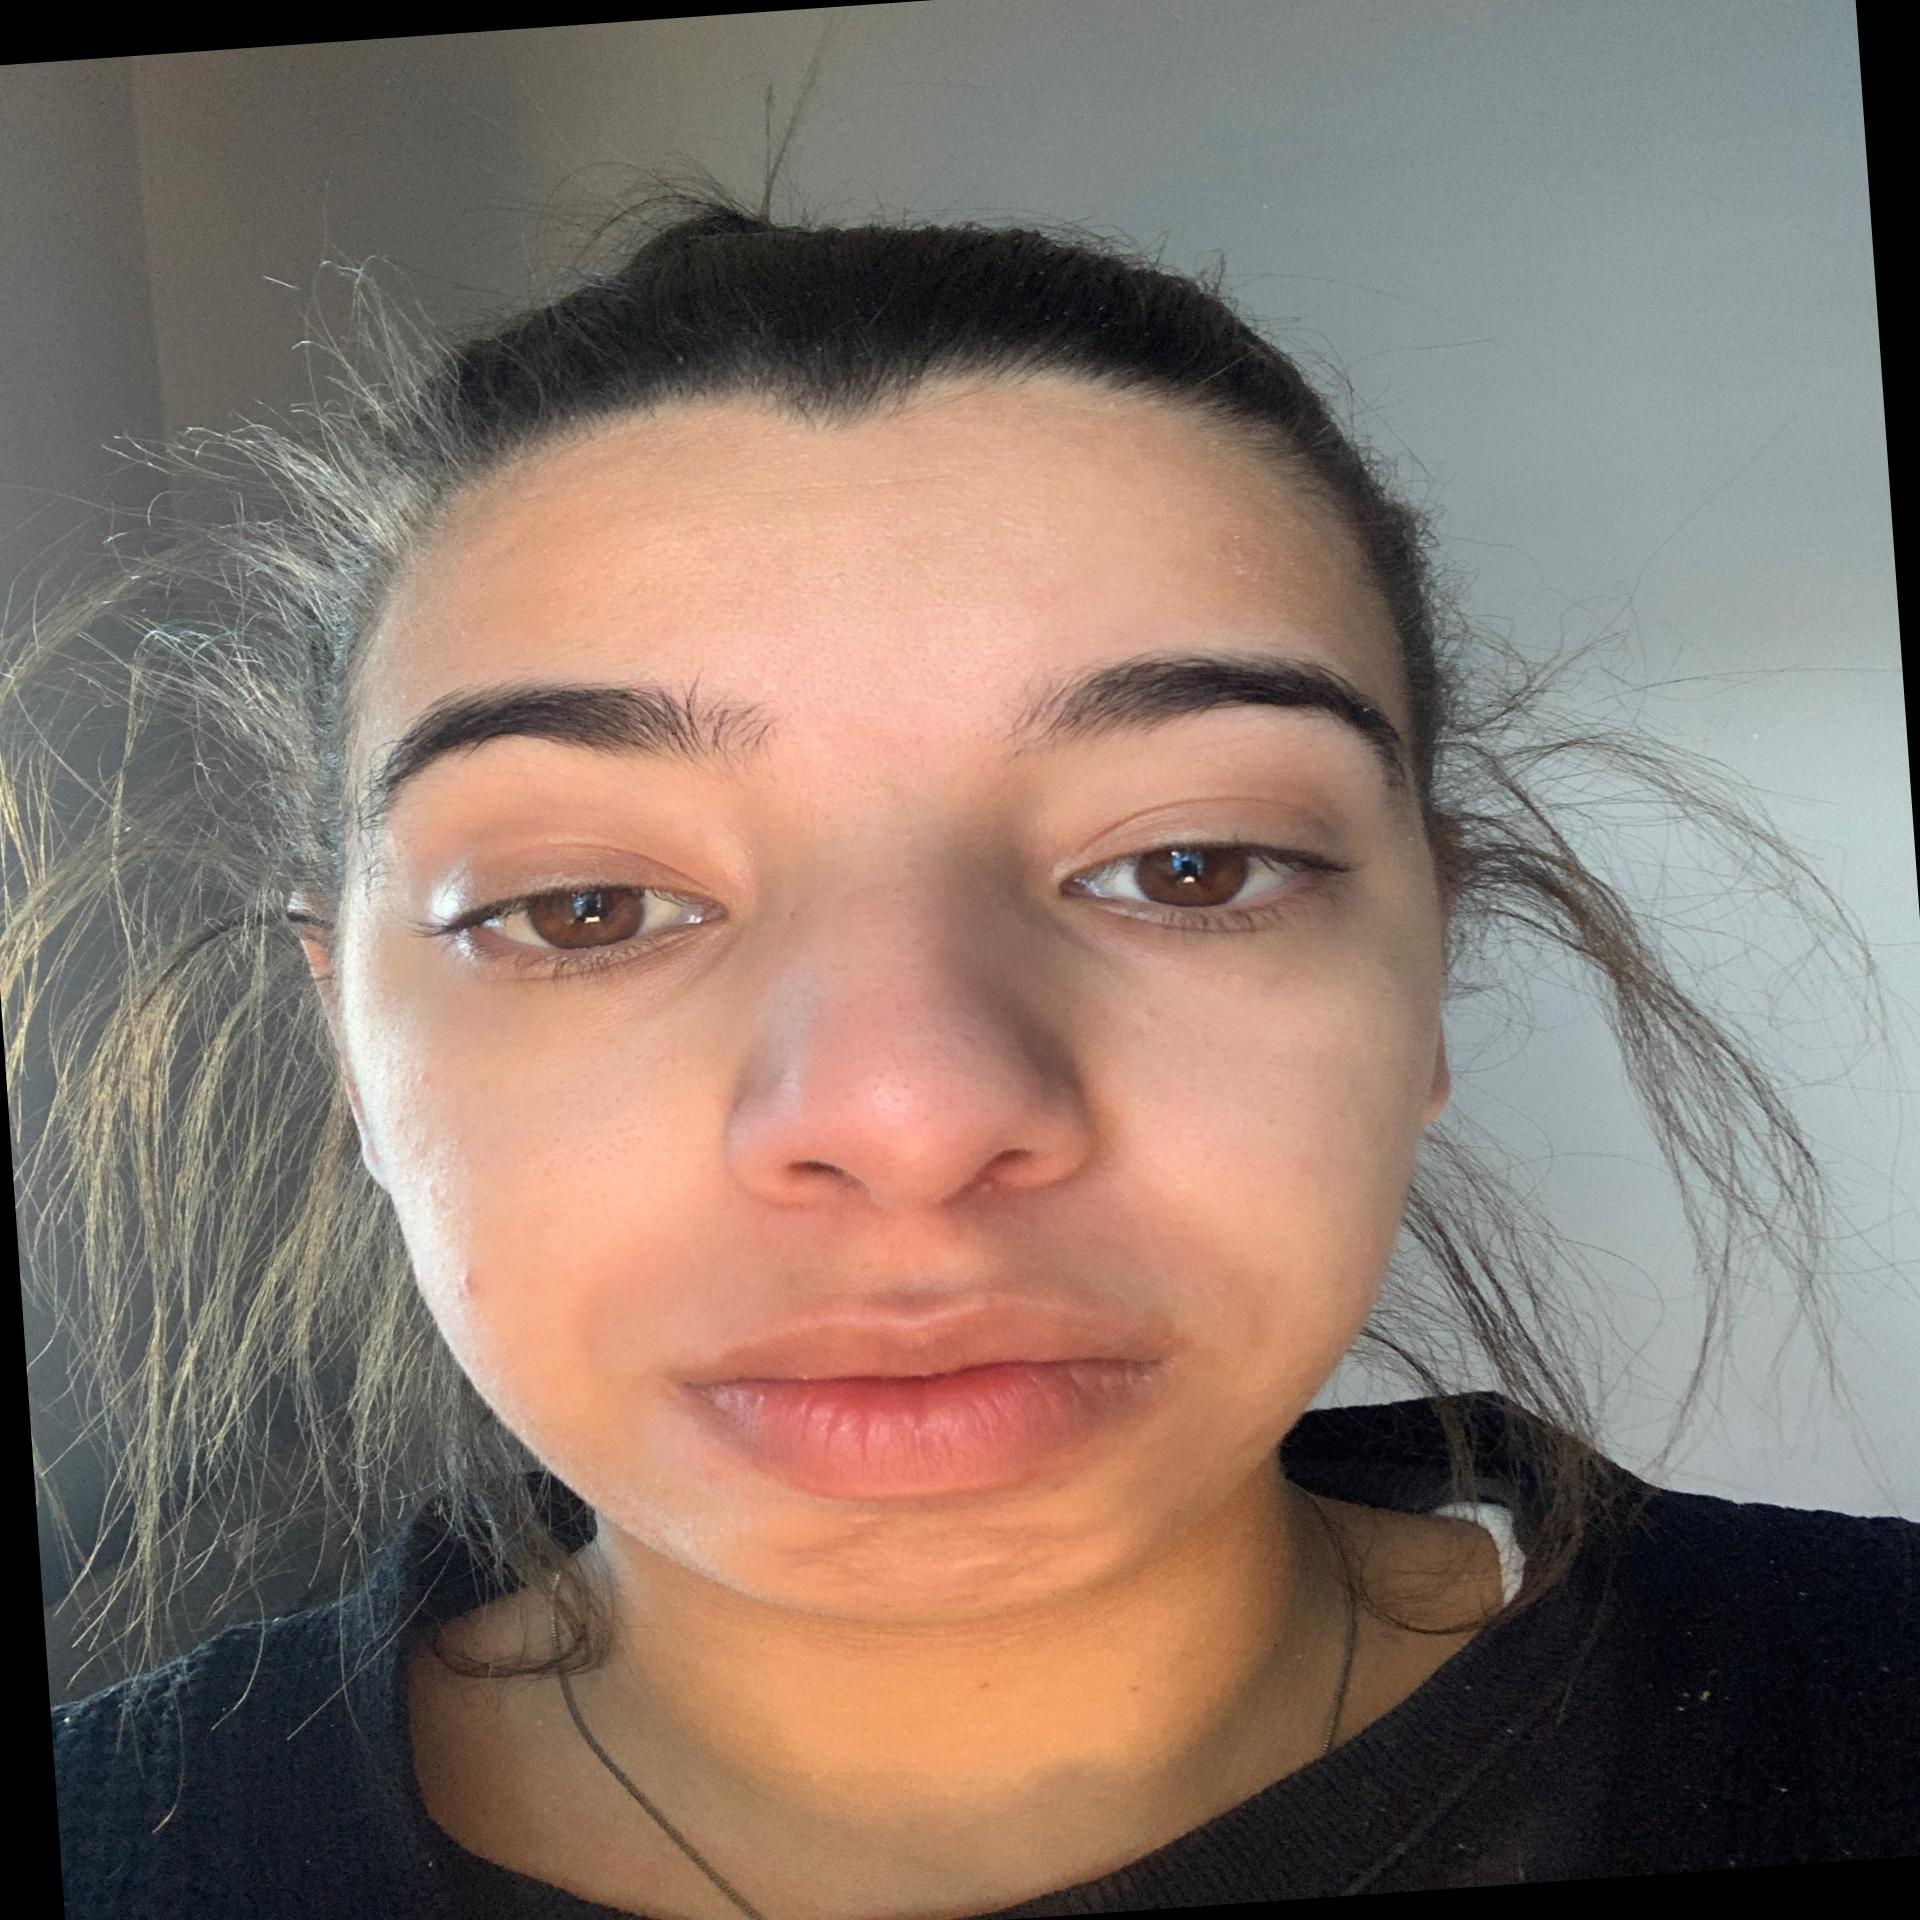Acne: (448, 1254, 489, 1306), (1138, 995, 1176, 1025), (971, 1171, 1002, 1199)
Blackhead: (531, 1032, 689, 1183), (855, 944, 962, 1122), (1160, 1041, 1257, 1169)
Wrinkles: (677, 461, 1009, 505)
